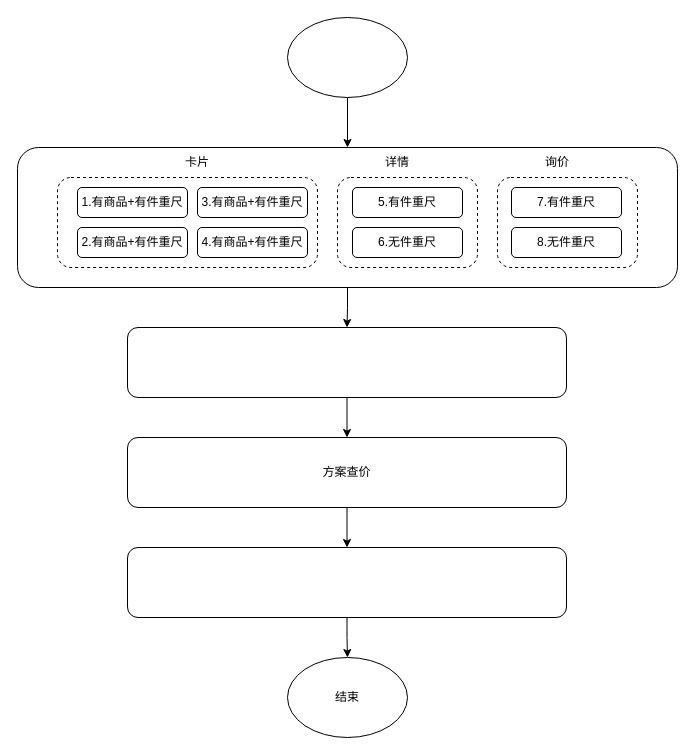
Some shapes in this 695 by 755 pixel diagram are drawn without their labels. The centre of each missing label's shape, as x and y in pixels:
开始: the point at 347,57
方案透传 （筛选最低价方案）: the point at 346,582
马士基sku/资源过滤: the point at 346,362
